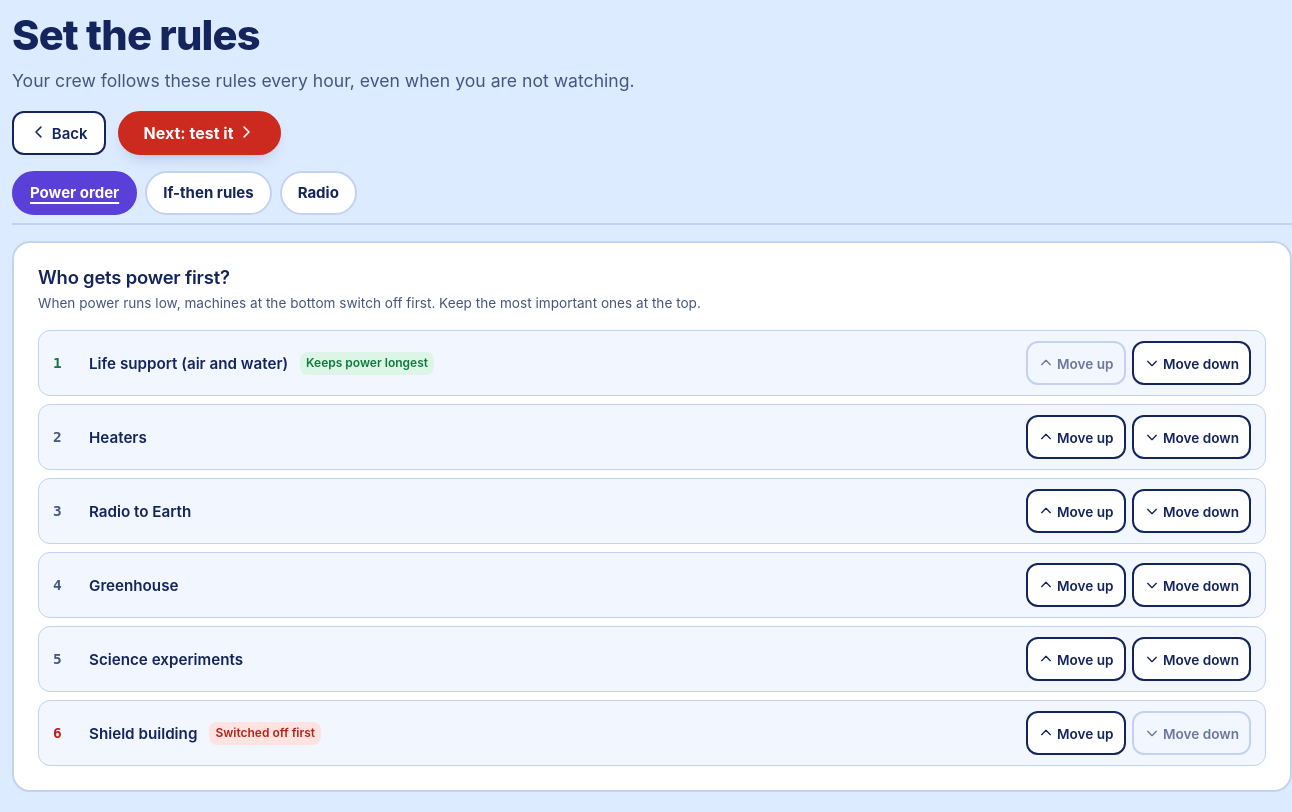
Test: RulesScreen Component (Spec Part C L6 AC4, AC5, AC7, AC9) › L11 AC4: Junior Mode offers three ready-made switches that add and remove rules
Click the tab "If-then rules": (208, 193) [145, 171, 272, 215]
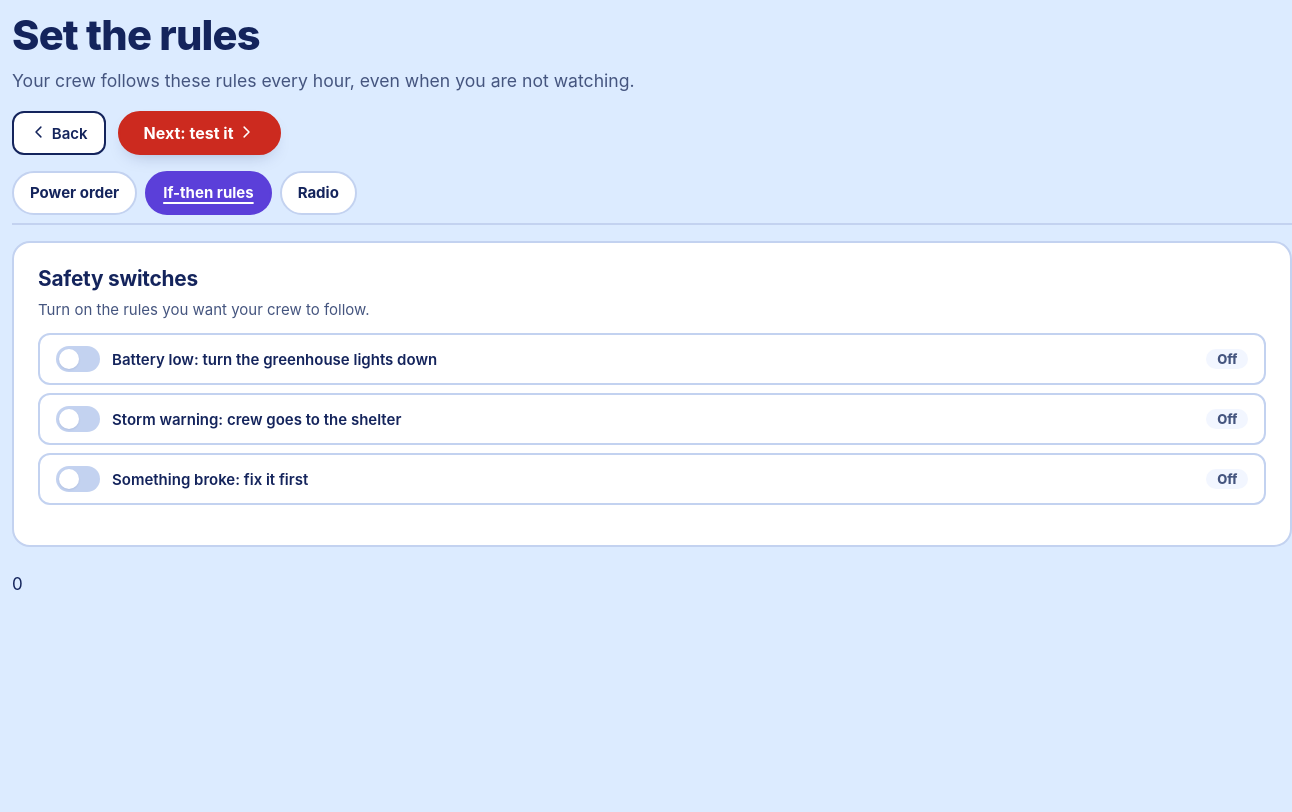
Expected: the number of switches is 3
Click the switch labelled "Storm warning: crew goes to the shelter Off": (78, 419) [38, 393, 1266, 445]
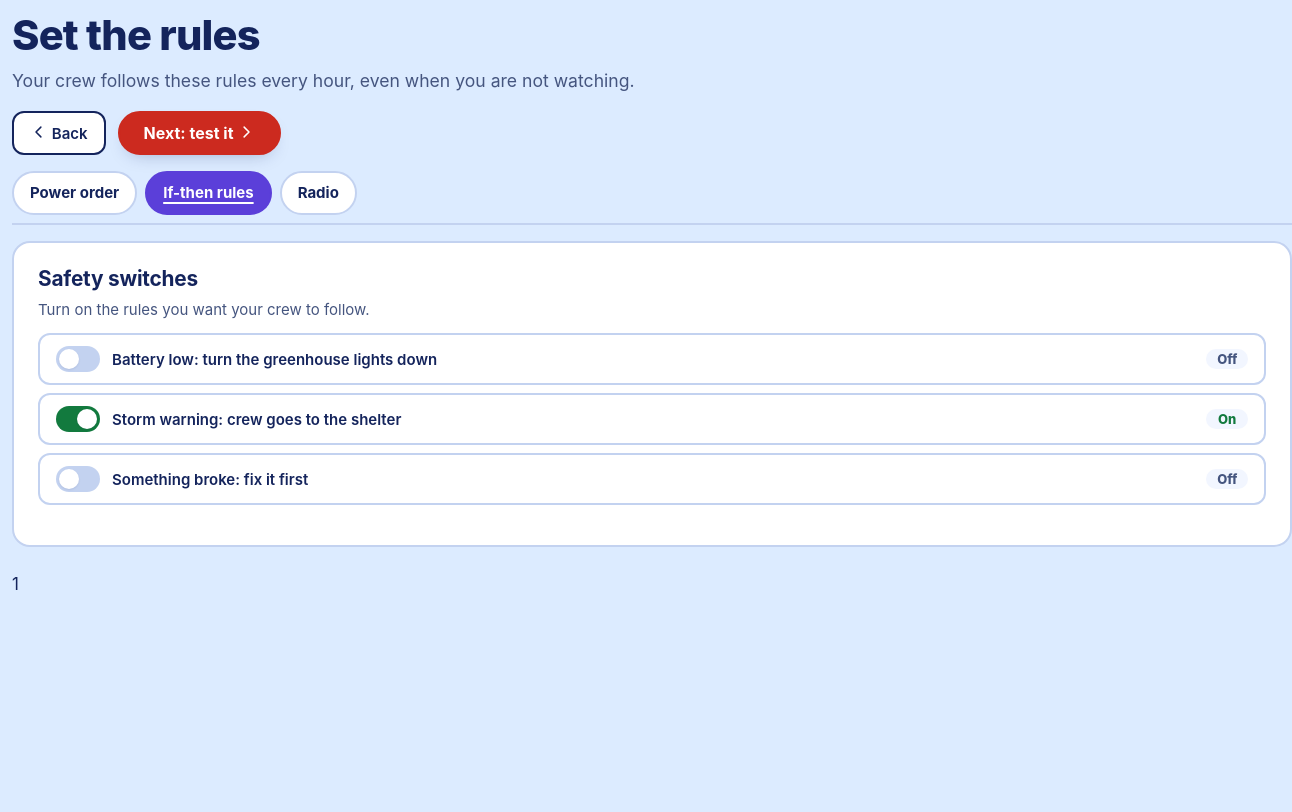
Expected: the text with test id "count" reads "1", [12, 574, 19, 594]
Click the switch labelled "Storm warning: crew goes to the shelter On": (78, 419) [38, 393, 1266, 445]
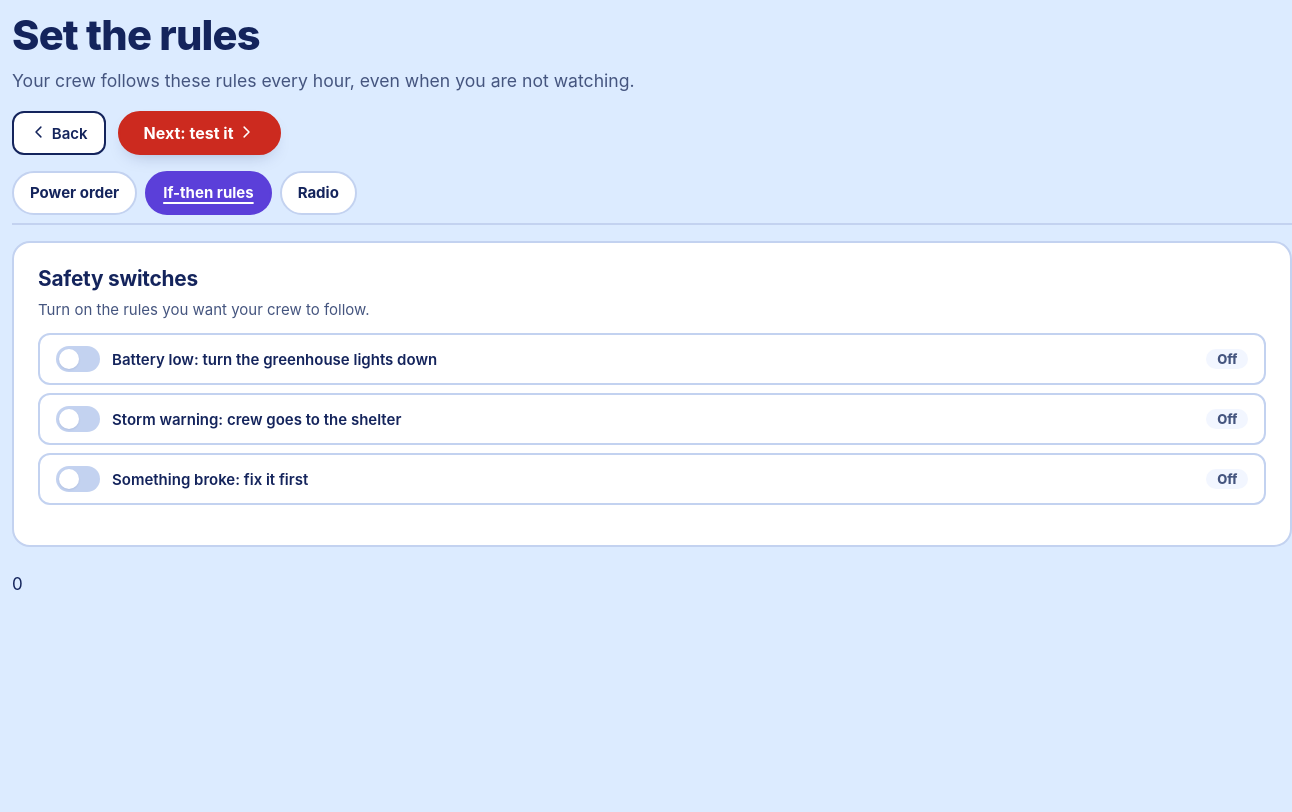
Expected: the text with test id "count" reads "0", [12, 574, 23, 594]
